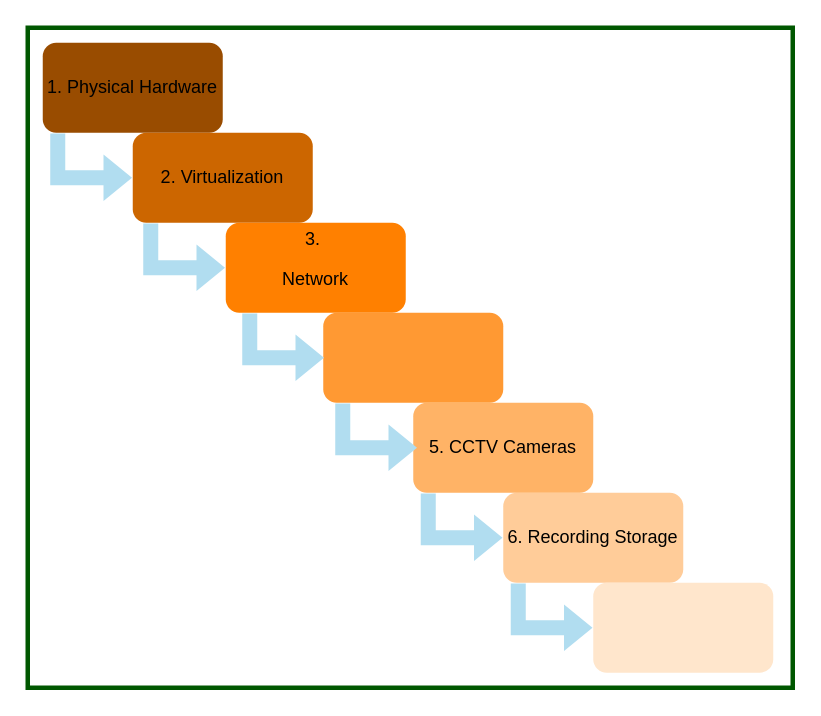
This 821x716 diagram has some shape labels left out. The centre of each missing label's shape, as x and y in pixels:
4. NVR Application: (x=412, y=357)
7. Management and Administration: (x=682, y=627)
